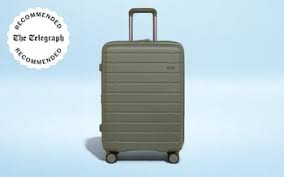suitcase: (97, 7, 187, 165)
